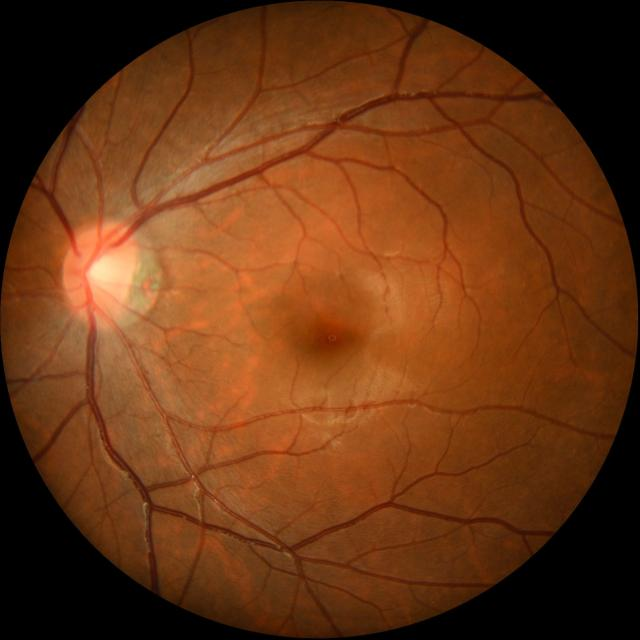OC: (86, 253, 122, 293)
OD: (63, 225, 137, 321)
